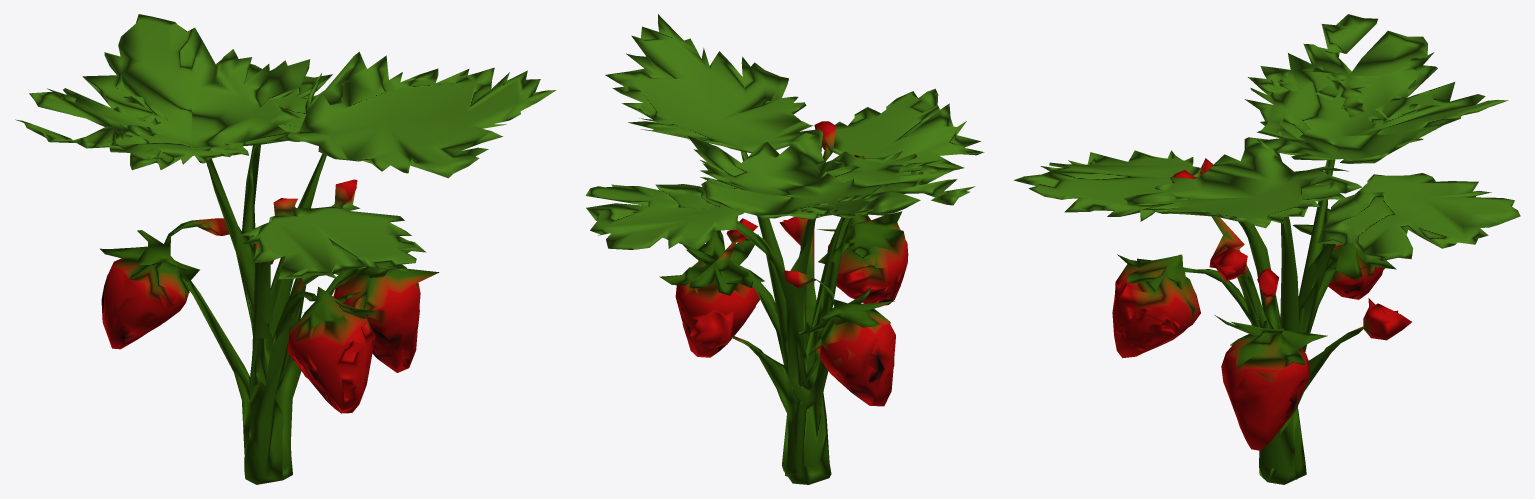
The model's file is gen3d-wild-strawberry-plant-lod0.glb.
3 renders of one model, left to right at view 1: azimuth 30°, elevation 25°; view 2: azimuth 150°, elevation 25°; view 3: azimuth 270°, elevation 25°, orthographic. The views are drawn at different scales.
Visible parts, largest first — view 1: part_0; view 2: part_0; view 3: part_0.
Part boxes in pixels (x1=…): part_0: x1=15, y1=14, x2=556, y2=484; part_0: x1=585, y1=14, x2=984, y2=484; part_0: x1=1014, y1=14, x2=1520, y2=484.
Bounding box in the file's own units: 1.18 × 0.9999 × 1.24.
